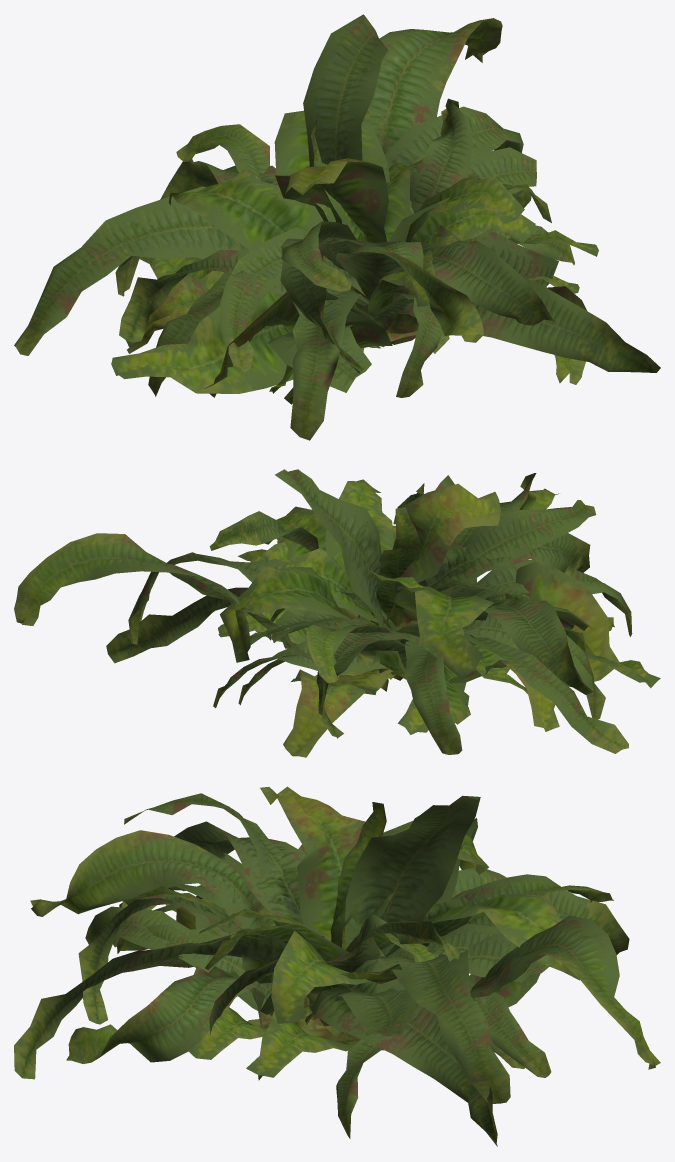
The model's file is fern.glb.
The picture shows the model from 3 angles, top to bottom: view 1: azimuth 30°, elevation 25°; view 2: azimuth 150°, elevation 25°; view 3: azimuth 270°, elevation 25°; orthographic projection. The views are drawn at different scales.
Visible parts, largest first — view 1: fern_02_b, fern_02_c, fern_02_d, fern_02_a; view 2: fern_02_b, fern_02_c, fern_02_a, fern_02_d; view 3: fern_02_b, fern_02_c, fern_02_a, fern_02_d.
Boxes of the visible parts, x1,y1,x2,y2 form: fern_02_b: (14, 14, 660, 440); fern_02_c: (111, 117, 586, 404); fern_02_d: (139, 169, 579, 393); fern_02_a: (198, 98, 558, 353); fern_02_b: (14, 469, 632, 757); fern_02_c: (106, 475, 660, 754); fern_02_a: (209, 511, 527, 707); fern_02_d: (262, 542, 614, 734); fern_02_b: (14, 786, 660, 1138); fern_02_c: (66, 793, 613, 1146); fern_02_a: (117, 891, 551, 1077); fern_02_d: (123, 886, 475, 1059).
Bounding box in the file's own units: 0.9878 × 0.4277 × 0.8937.
Materials: 1 (1 with a texture image).
